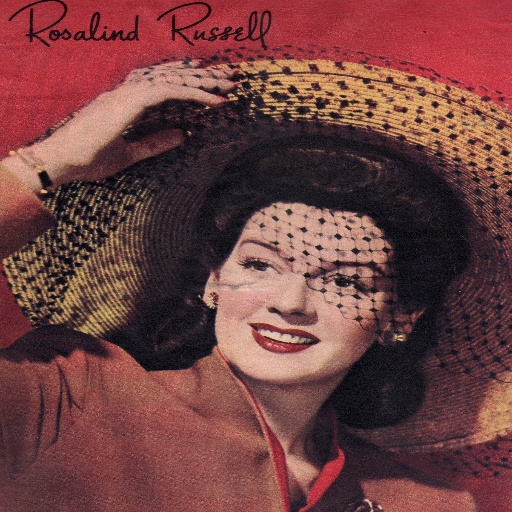hand: (5, 57, 239, 199)
